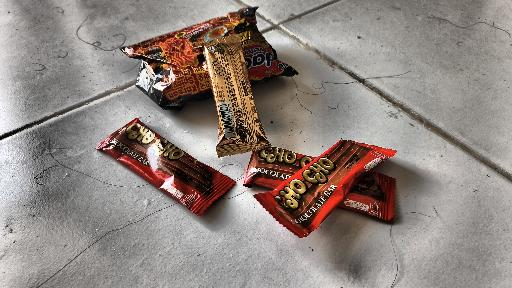chocho: (88, 124, 418, 249)
top: (197, 33, 273, 153)
